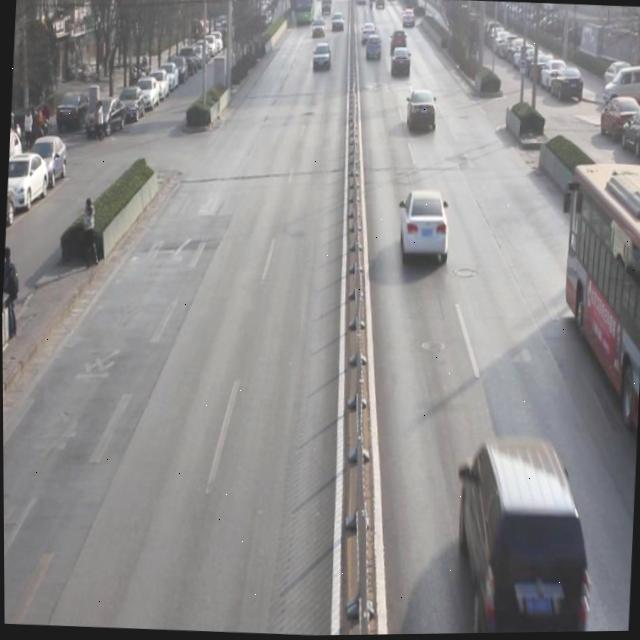car: (451, 432, 599, 635), (397, 191, 451, 266), (404, 87, 439, 138), (389, 45, 414, 80), (311, 41, 333, 75)
van: (557, 161, 640, 440)
